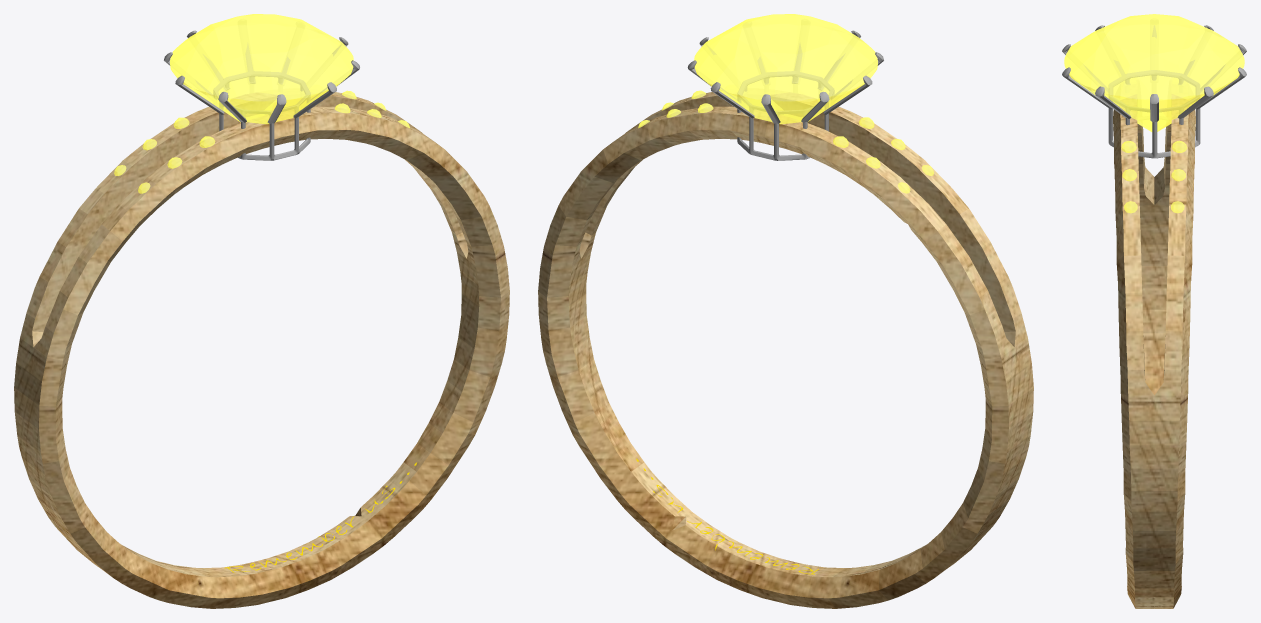
Rendered from memories_wooden_ring.glb.
3 views of the same model, side by side, from view 1: azimuth 30°, elevation 25°; view 2: azimuth 150°, elevation 25°; view 3: azimuth 270°, elevation 25° (orthographic). The views are drawn at different scales.
Parts seen in each view (by area): view 1: Ring.001_0; view 2: Ring.001_0; view 3: Ring.001_0.
Boxes of the visible parts, x1,y1,x2,y2 form: Ring.001_0: (14,14,509,608); Ring.001_0: (538,14,1033,608); Ring.001_0: (1062,14,1246,608).
Size of the model in its own units: 6.12 by 6.96 by 2.13.
Materials: 4 (1 with a texture image).
